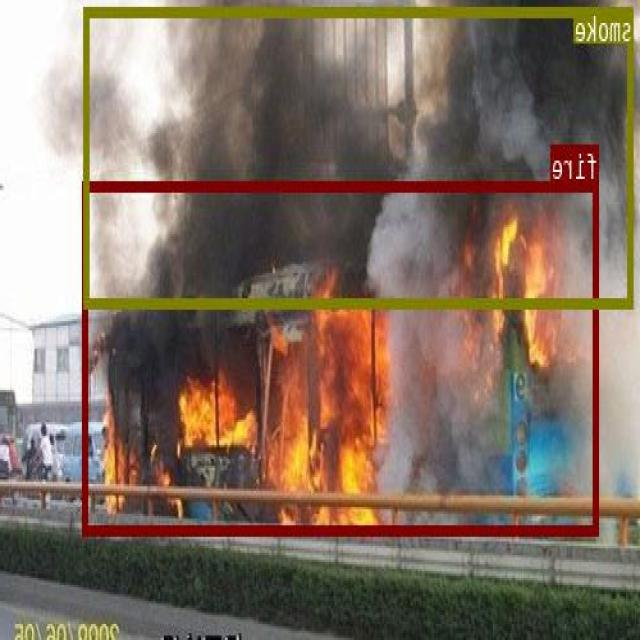fire: (83, 180, 600, 534)
smoke: (85, 5, 634, 306)
